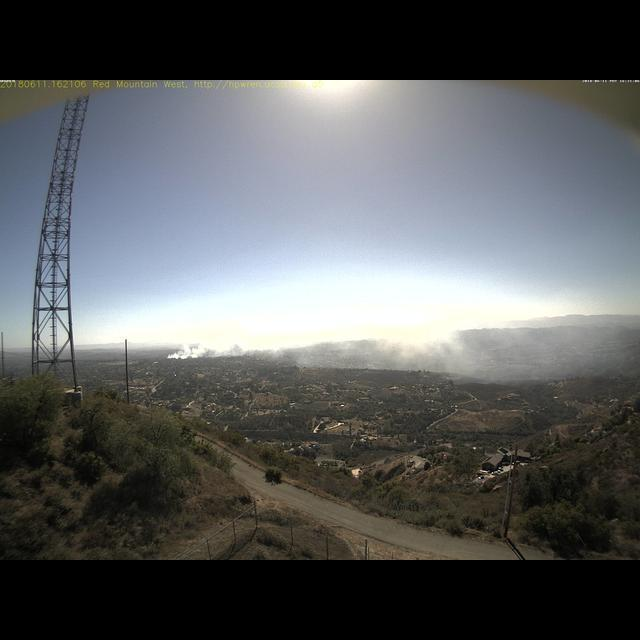Smoke: (164, 321, 466, 367)
